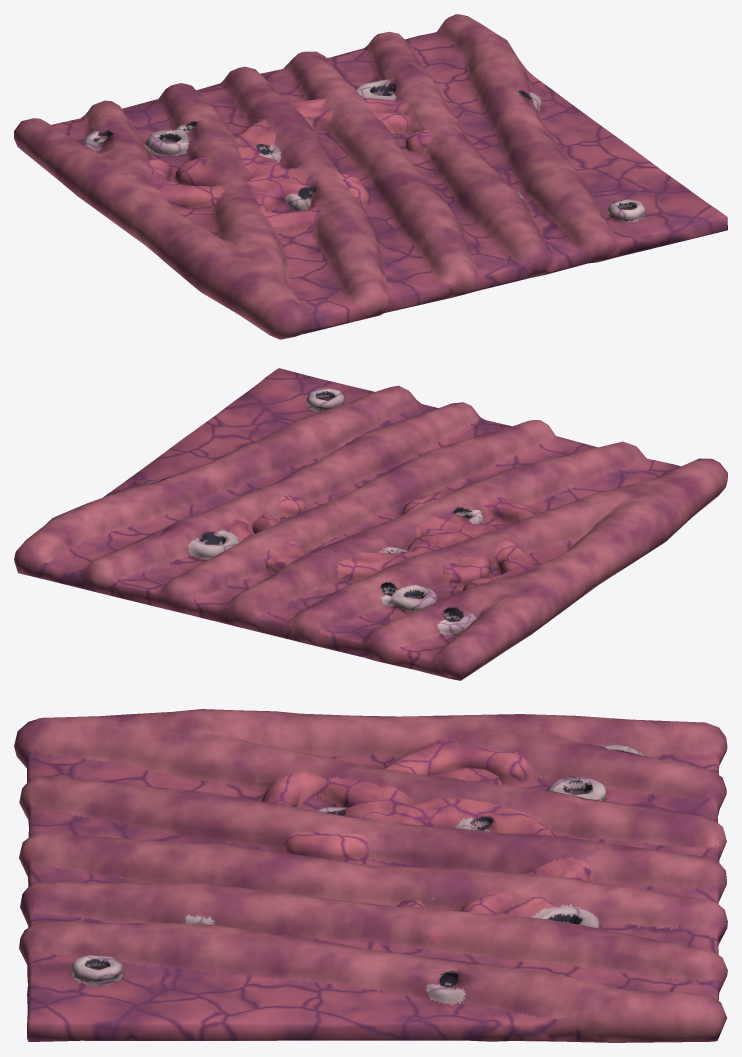
The model's file is suelo_carne.fbx.
The picture shows the model from 3 angles, top to bottom: view 1: azimuth 30°, elevation 25°; view 2: azimuth 150°, elevation 25°; view 3: azimuth 270°, elevation 25°; orthographic projection. The views are drawn at different scales.
Parts seen in each view (by area): view 1: placa; view 2: placa; view 3: placa.
Part boxes in pixels (<box>): placa: <box>14,14,727,339</box>; placa: <box>14,368,727,680</box>; placa: <box>14,709,727,1042</box>.
Bounding box in the file's own units: 8 × 0.6026 × 8.01.
1 material, 1 textured.
